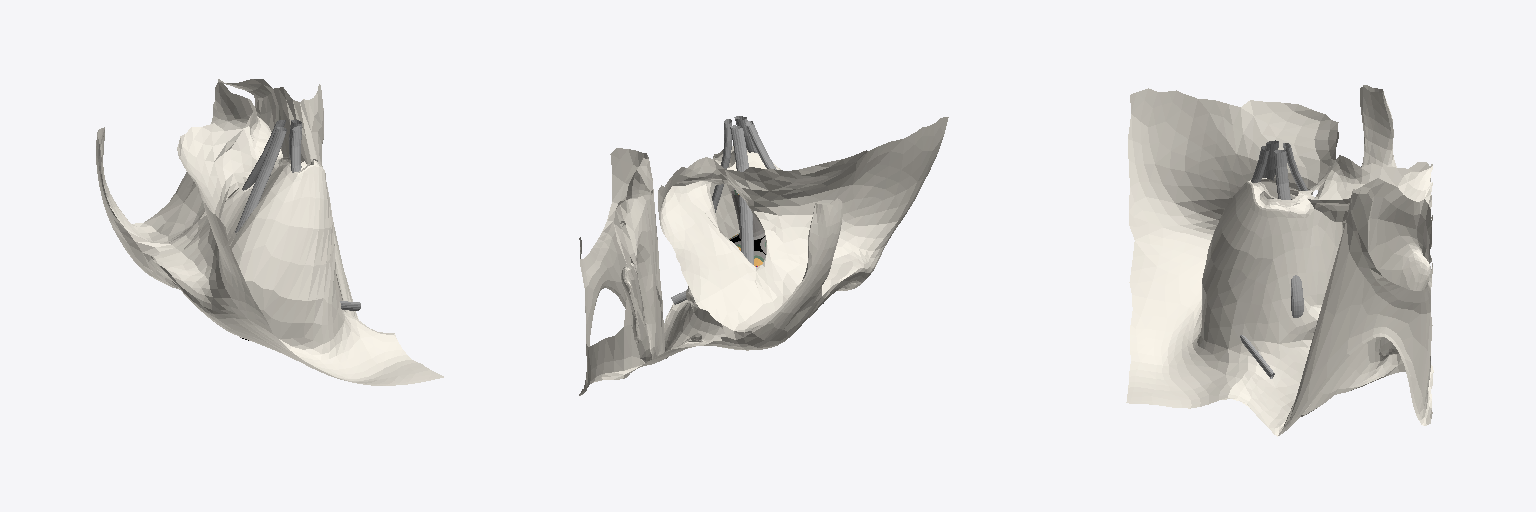
The picture shows the model from 3 angles: view 1: azimuth 30°, elevation 25°; view 2: azimuth 150°, elevation 25°; view 3: azimuth 270°, elevation 25°; orthographic projection.
Parts seen in each view (by area): view 1: SighSkul_pivot.002, SighTe05_pivot.002; view 2: SighSkul_pivot.002, SighTe04_pivot.002, SighEsc1.002, SighTe03_pivot.002; view 3: SighSkul_pivot.002, SighTe03_pivot.002.
Boxes of the visible parts, x1,y1,x2,y2 form: SighSkul_pivot.002: [96, 79, 443, 385]; SighTe05_pivot.002: [235, 127, 286, 232]; SighSkul_pivot.002: [579, 117, 948, 395]; SighTe04_pivot.002: [730, 125, 753, 264]; SighEsc1.002: [731, 190, 765, 266]; SighTe03_pivot.002: [712, 119, 731, 212]; SighSkul_pivot.002: [1126, 85, 1433, 436]; SighTe03_pivot.002: [1274, 150, 1303, 317].
Size of the model in its own units: 2.05 by 2.12 by 2.36.
Materials: 9 (3 with a texture image).